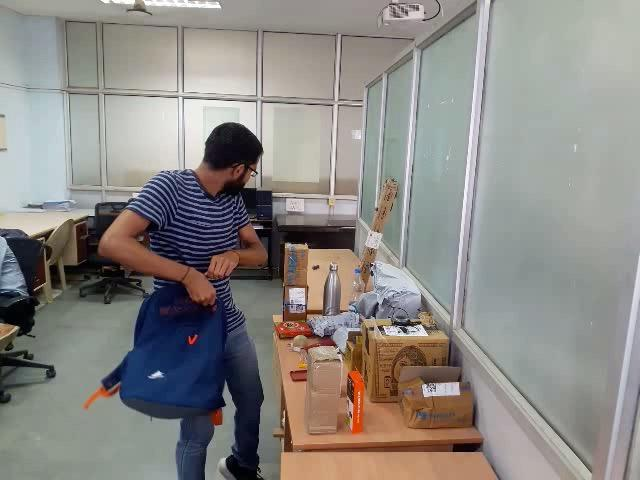shoplifting: (82, 244, 256, 430)
